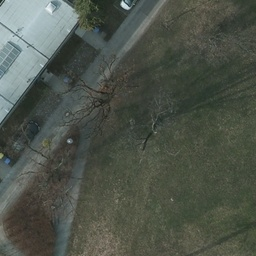car: (14, 120, 41, 150), (118, 1, 135, 10)
